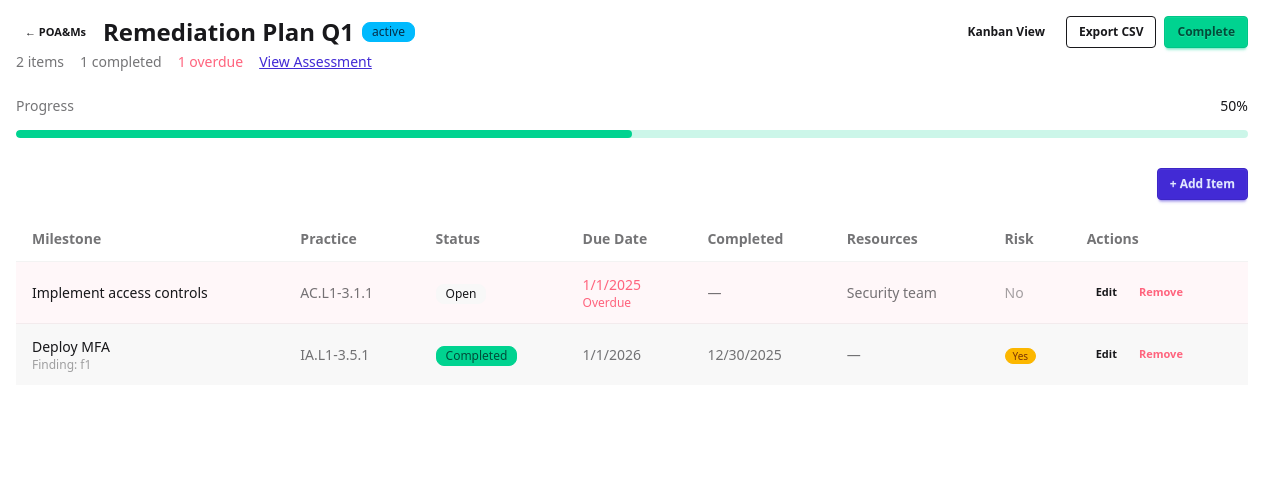
Test: POAMDetailPage › opens inline edit for an item
Expected: the text "Implement access controls" is shown, left=32, top=283, right=208, bottom=302
What coordinates should you click on to do the following:
click the button "Edit" in the row of "Implement access controls"
I would click on:
 (1106, 292)
Its box is left=1087, top=280, right=1126, bottom=304.
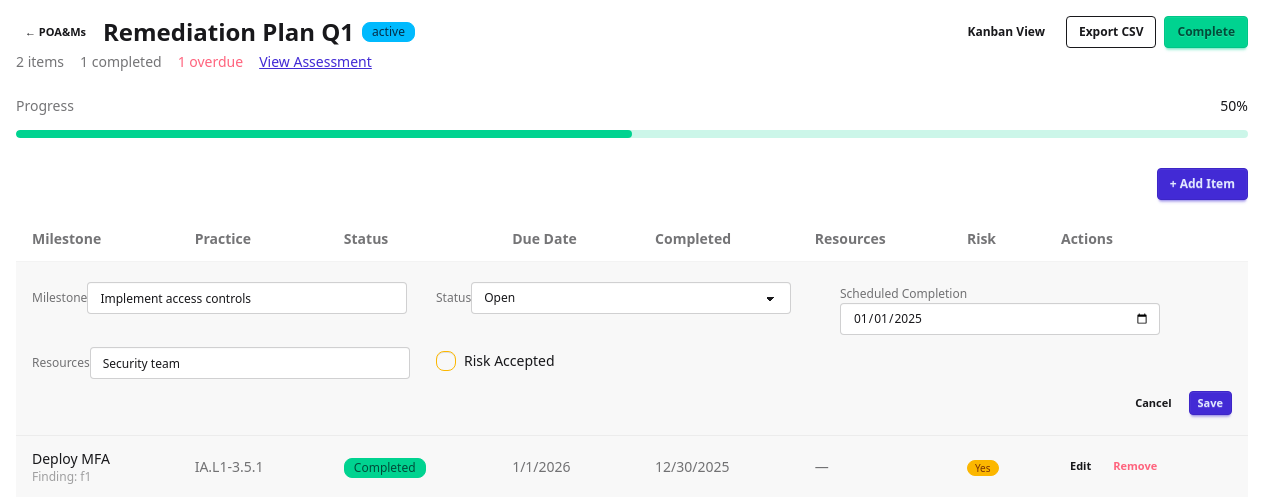
Now the 1st field showing "Implement access controls" is shown, box left=87, top=282, right=407, bottom=314
